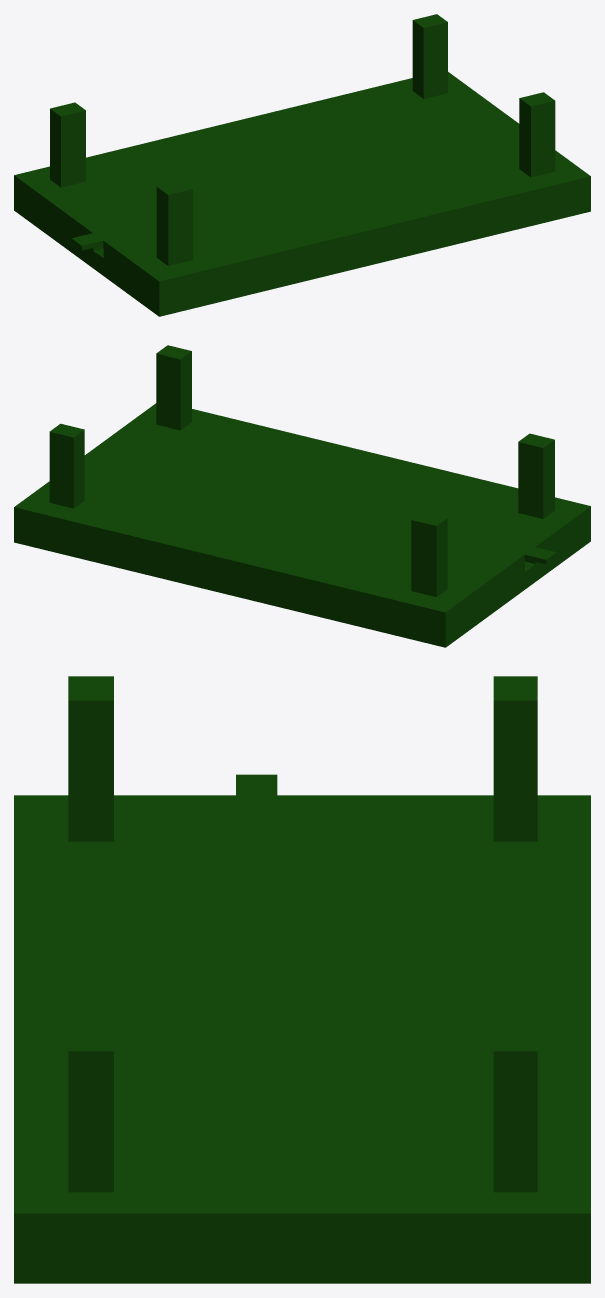
The model's file is billiard.obj.
3 renders of one model, top to bottom at view 1: azimuth 30°, elevation 25°; view 2: azimuth 150°, elevation 25°; view 3: azimuth 270°, elevation 25°, orthographic. The views are drawn at different scales.
Parts seen in each view (by area): view 1: Cube; view 2: Cube; view 3: Cube.
Part boxes in pixels (x1,y1,x2,y2): Cube: (14,14,590,316); Cube: (14,345,590,647); Cube: (14,676,590,1283).
Bounding box in the file's own units: 10.48 × 2.35 × 5.82.
